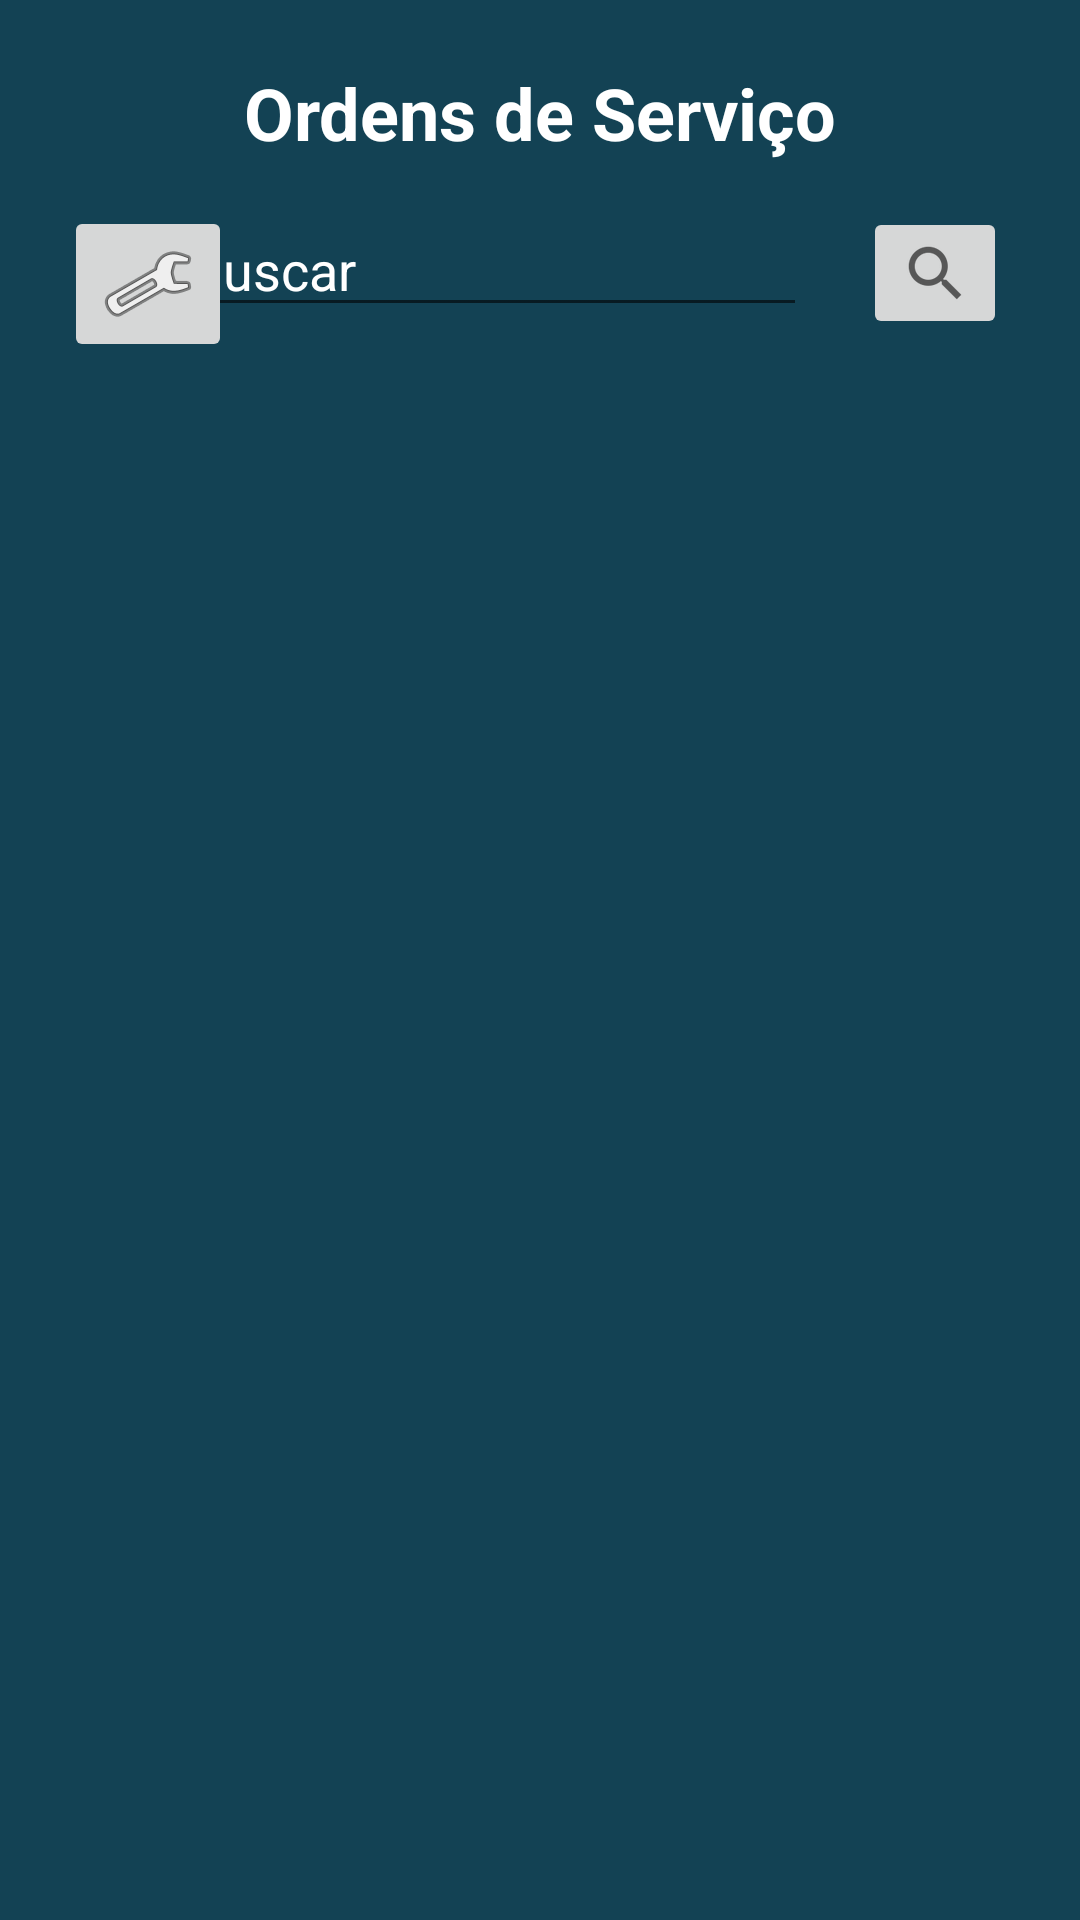

Icons on this 1080w x 1920h Android screen, each with its box as region(x1, y1, x2, y2):
preferences: region(76, 224, 232, 344)
